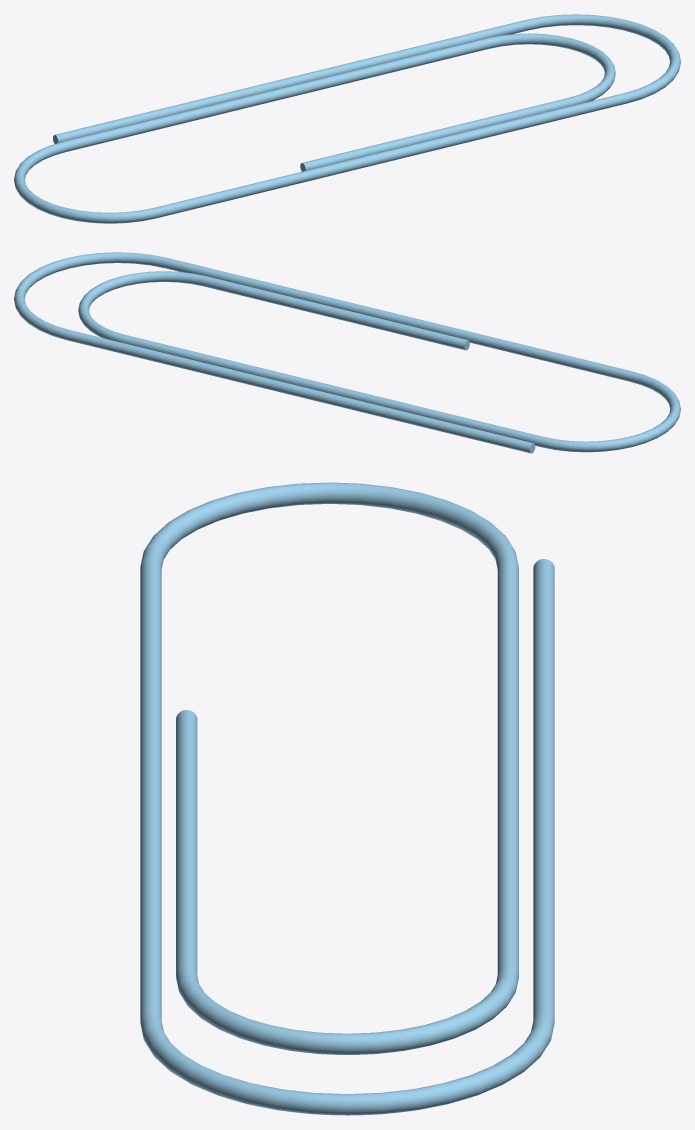
The model's file is PaperClip.dae.
The picture shows the model from 3 angles, top to bottom: view 1: azimuth 30°, elevation 25°; view 2: azimuth 150°, elevation 25°; view 3: azimuth 270°, elevation 25°; orthographic projection. The views are drawn at different scales.
Parts seen in each view (by area): view 1: ID2; view 2: ID2; view 3: ID2.
Part boxes in pixels (x1,y1,x2,y2): ID2: (14, 14, 680, 223); ID2: (14, 252, 680, 453); ID2: (140, 482, 554, 1115).
Size of the model in its own units: 0.0205 by 0.0058 by 0.0003.
